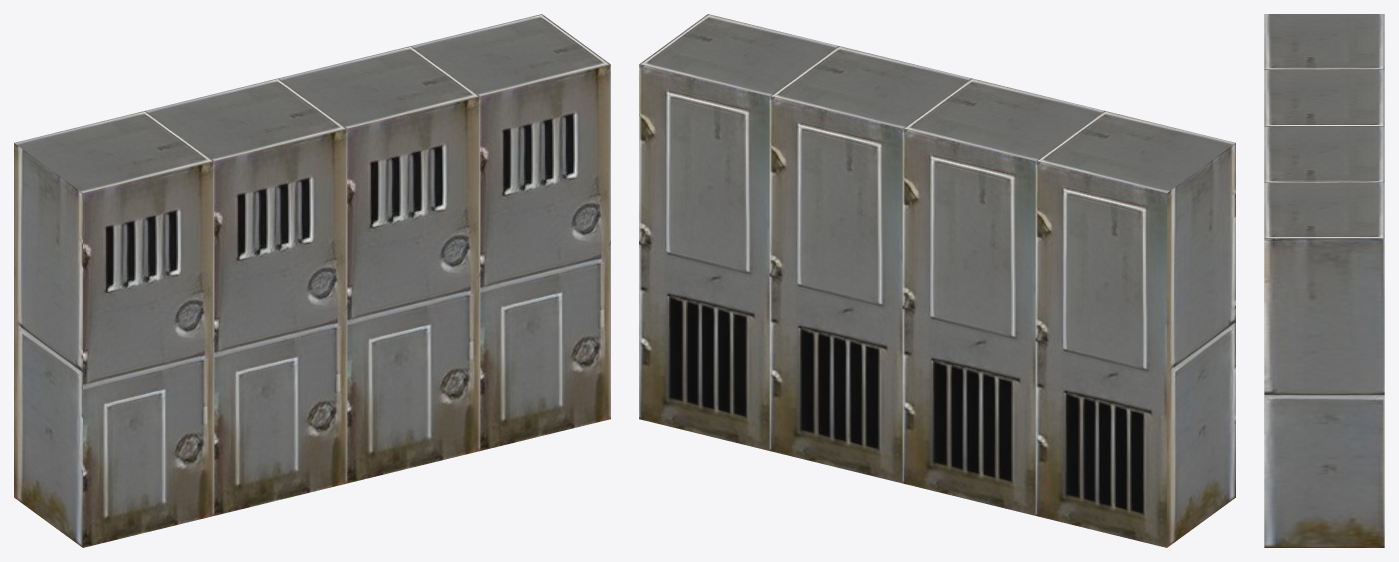
The model's file is lockers_hdtex.glb.
3 renders of one model, left to right at view 1: azimuth 30°, elevation 25°; view 2: azimuth 150°, elevation 25°; view 3: azimuth 270°, elevation 25°, orthographic. The views are drawn at different scales.
Parts seen in each view (by area): view 1: Lockers; view 2: Lockers; view 3: Lockers.
Boxes of the visible parts, left/top/right/bottom form: Lockers: left=14, top=14, right=610, bottom=547; Lockers: left=639, top=14, right=1235, bottom=547; Lockers: left=1264, top=14, right=1384, bottom=547.
Bounding box in the file's own units: 3.74 × 2.4 × 0.8447.
Materials: 1 (1 with a texture image).
